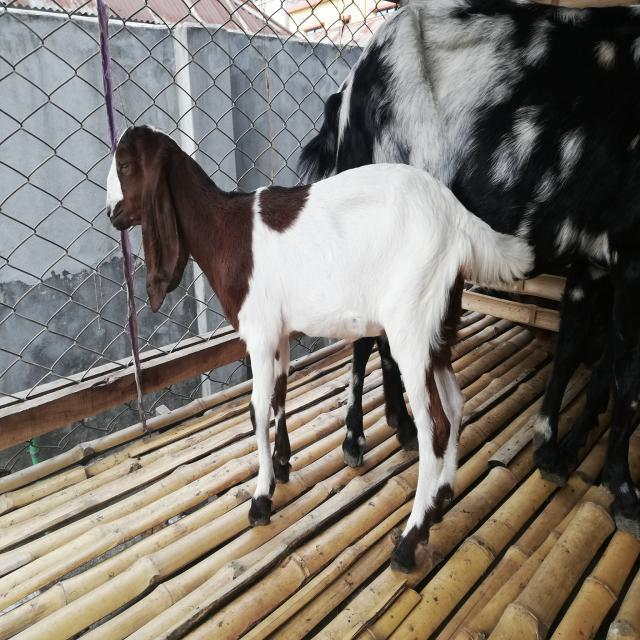Goat: (106, 122, 537, 573), (296, 0, 640, 542)
